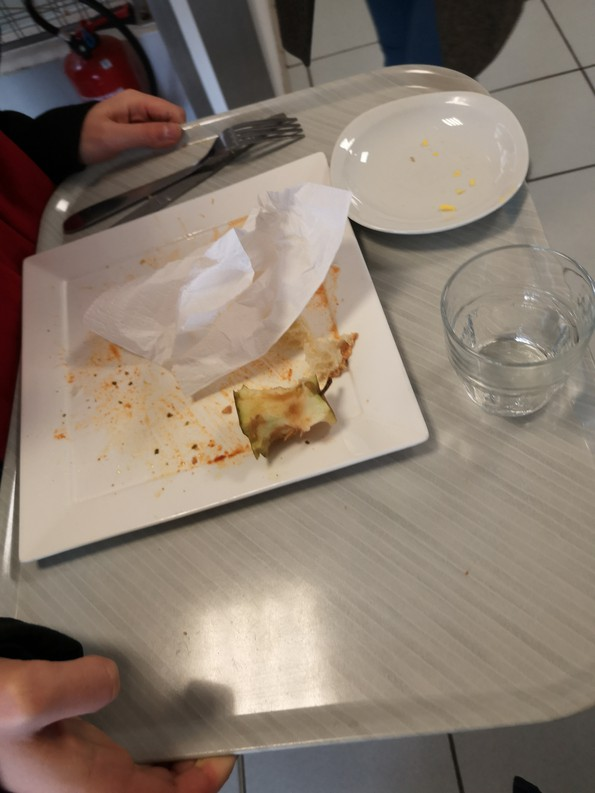cup: (424, 246, 595, 426)
cutlery: (54, 101, 309, 250)
orga: (235, 381, 398, 472)
trash: (114, 214, 353, 366)
